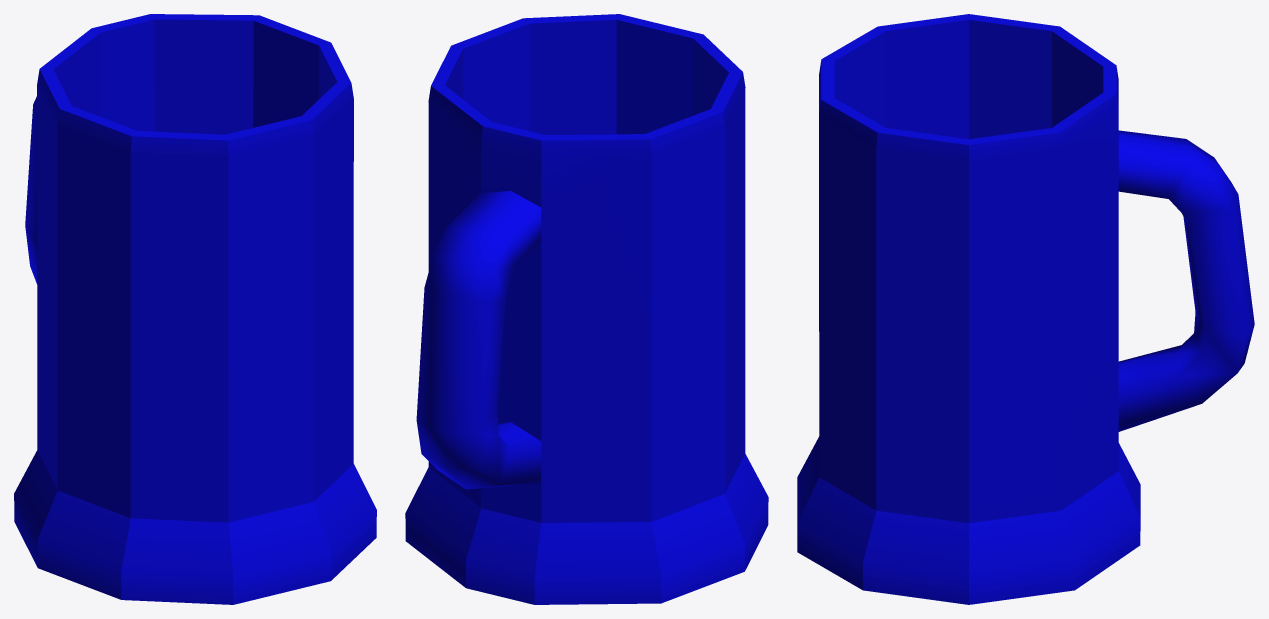
Rendered from Glass_Stein.fbx.
3 views of the same model, side by side, from view 1: azimuth 30°, elevation 25°; view 2: azimuth 150°, elevation 25°; view 3: azimuth 270°, elevation 25° (orthographic).
Parts seen in each view (by area): view 1: Glass_Stein; view 2: Glass_Stein; view 3: Glass_Stein.
Boxes of the visible parts, bbox=[...] form: Glass_Stein: bbox=[14, 14, 376, 604]; Glass_Stein: bbox=[405, 14, 768, 604]; Glass_Stein: bbox=[797, 14, 1254, 604].
Bounding box in the file's own units: 46.29 × 63.56 × 58.66.
